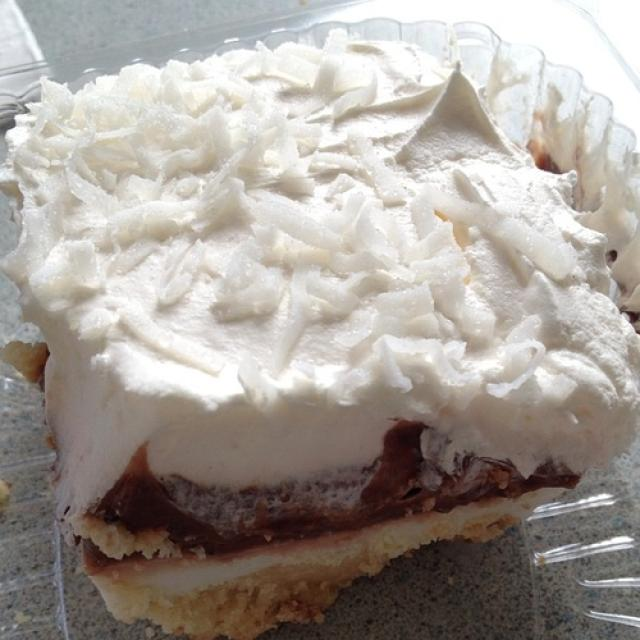蛋糕甜品: (9, 39, 626, 578)
